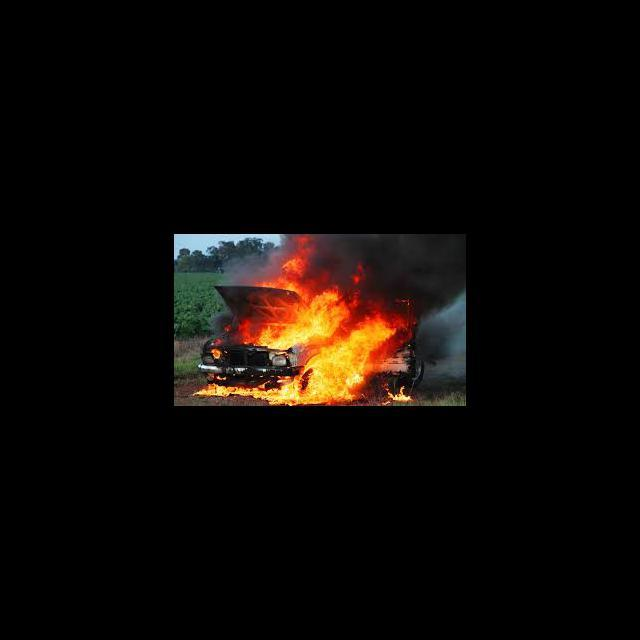Fire: (262, 303, 392, 362), (198, 361, 366, 403), (251, 242, 309, 298), (310, 278, 360, 304)
Smoke: (311, 235, 465, 278), (363, 277, 465, 304), (422, 306, 464, 360), (226, 257, 252, 285)
